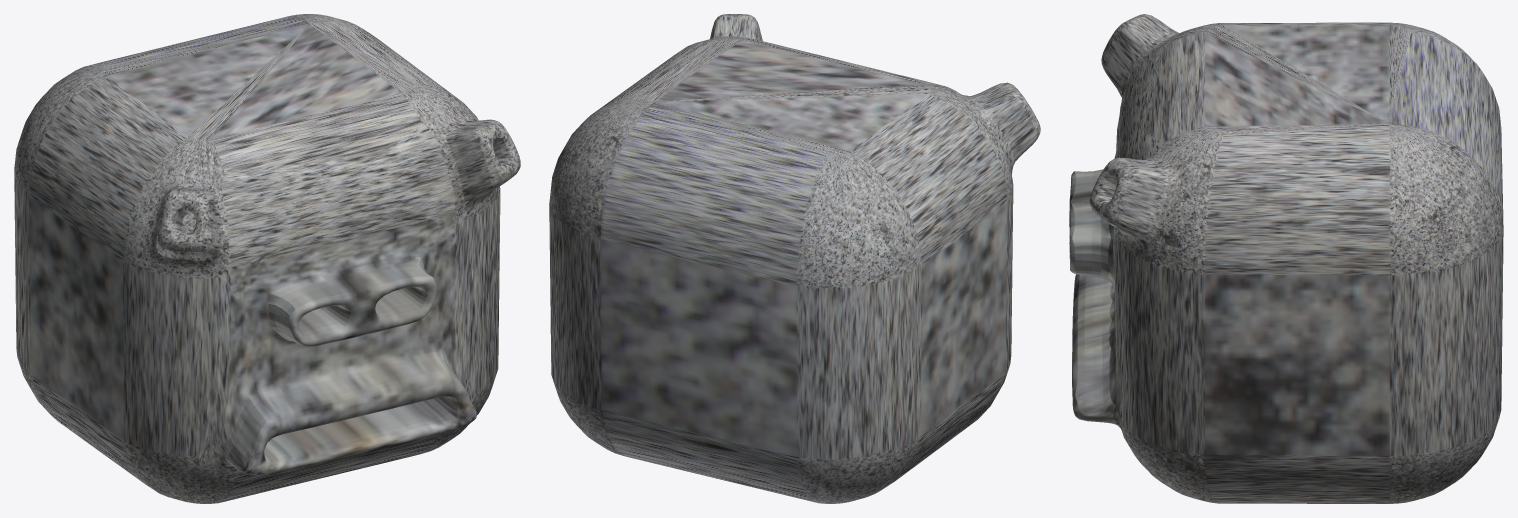
The model's file is frog.FBX.
3 views of the same model, side by side, from view 1: azimuth 30°, elevation 25°; view 2: azimuth 150°, elevation 25°; view 3: azimuth 270°, elevation 25° (orthographic). The views are drawn at different scales.
Parts seen in each view (by area): view 1: Sphere001; view 2: Sphere001; view 3: Sphere001.
Boxes of the visible parts, left/top/right/bottom form: Sphere001: left=14, top=14, right=520, bottom=503; Sphere001: left=549, top=14, right=1040, bottom=503; Sphere001: left=1069, top=14, right=1503, bottom=503.
Bounding box in the file's own units: 31.09 × 28.94 × 30.79.
